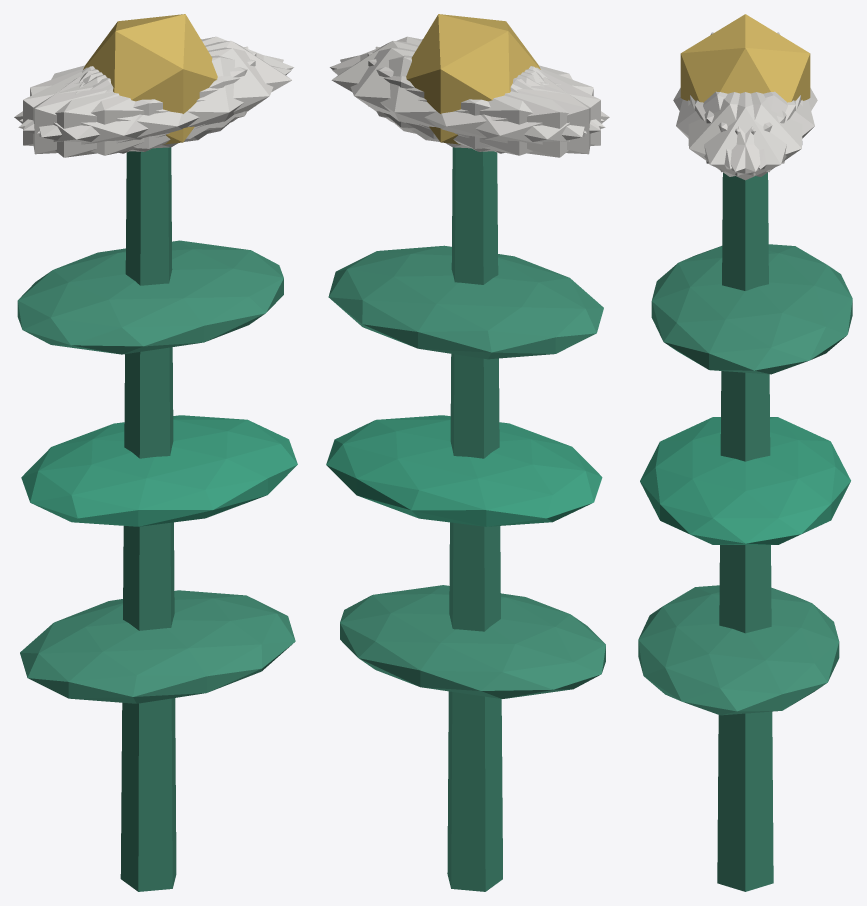
The model's file is osmoxylon-lineare.glb.
3 renders of one model, left to right at view 1: azimuth 30°, elevation 25°; view 2: azimuth 150°, elevation 25°; view 3: azimuth 270°, elevation 25°, orthographic.
Visible parts, largest first — view 1: stem, leaf1, leaf0, leaf2, center, petal1, petal6, petal2, petal5, petal7, petal0, petal4 (+2 smaller); view 2: stem, leaf2, leaf1, leaf0, center, petal8, petal3, petal7, petal4, petal2, petal0, petal5 (+2 smaller); view 3: stem, leaf1, leaf2, leaf0, center, petal0, petal4, petal5, petal1, petal8.
Boxes of the visible parts, x1,y1,x2,y2 form: stem: [120, 147, 176, 891]; leaf1: [21, 415, 297, 526]; leaf0: [20, 590, 295, 703]; leaf2: [17, 240, 283, 354]; center: [83, 14, 217, 144]; petal1: [18, 55, 291, 155]; petal6: [14, 67, 211, 157]; petal2: [33, 46, 248, 154]; petal5: [37, 47, 283, 148]; petal7: [23, 52, 256, 151]; petal0: [83, 41, 291, 139]; petal4: [20, 36, 293, 130]; stem: [447, 147, 502, 891]; leaf2: [328, 245, 603, 359]; leaf1: [326, 415, 602, 526]; leaf0: [340, 585, 605, 698]; center: [406, 14, 540, 144]; petal8: [332, 55, 605, 155]; petal3: [412, 67, 609, 157]; petal7: [375, 46, 590, 154]; petal4: [340, 47, 586, 148]; petal2: [367, 52, 600, 151]; petal0: [331, 41, 540, 139]; petal5: [330, 36, 603, 130]; stem: [717, 172, 773, 891]; leaf1: [640, 417, 850, 544]; leaf2: [651, 244, 852, 374]; leaf0: [638, 585, 839, 715]; center: [680, 14, 810, 102]; petal0: [690, 92, 800, 180]; petal4: [695, 92, 802, 176]; petal5: [688, 92, 795, 176]; petal1: [676, 91, 786, 169]; petal8: [704, 91, 814, 169].
Size of the model in its own units: 0.1452 by 0.4429 by 0.1015.
